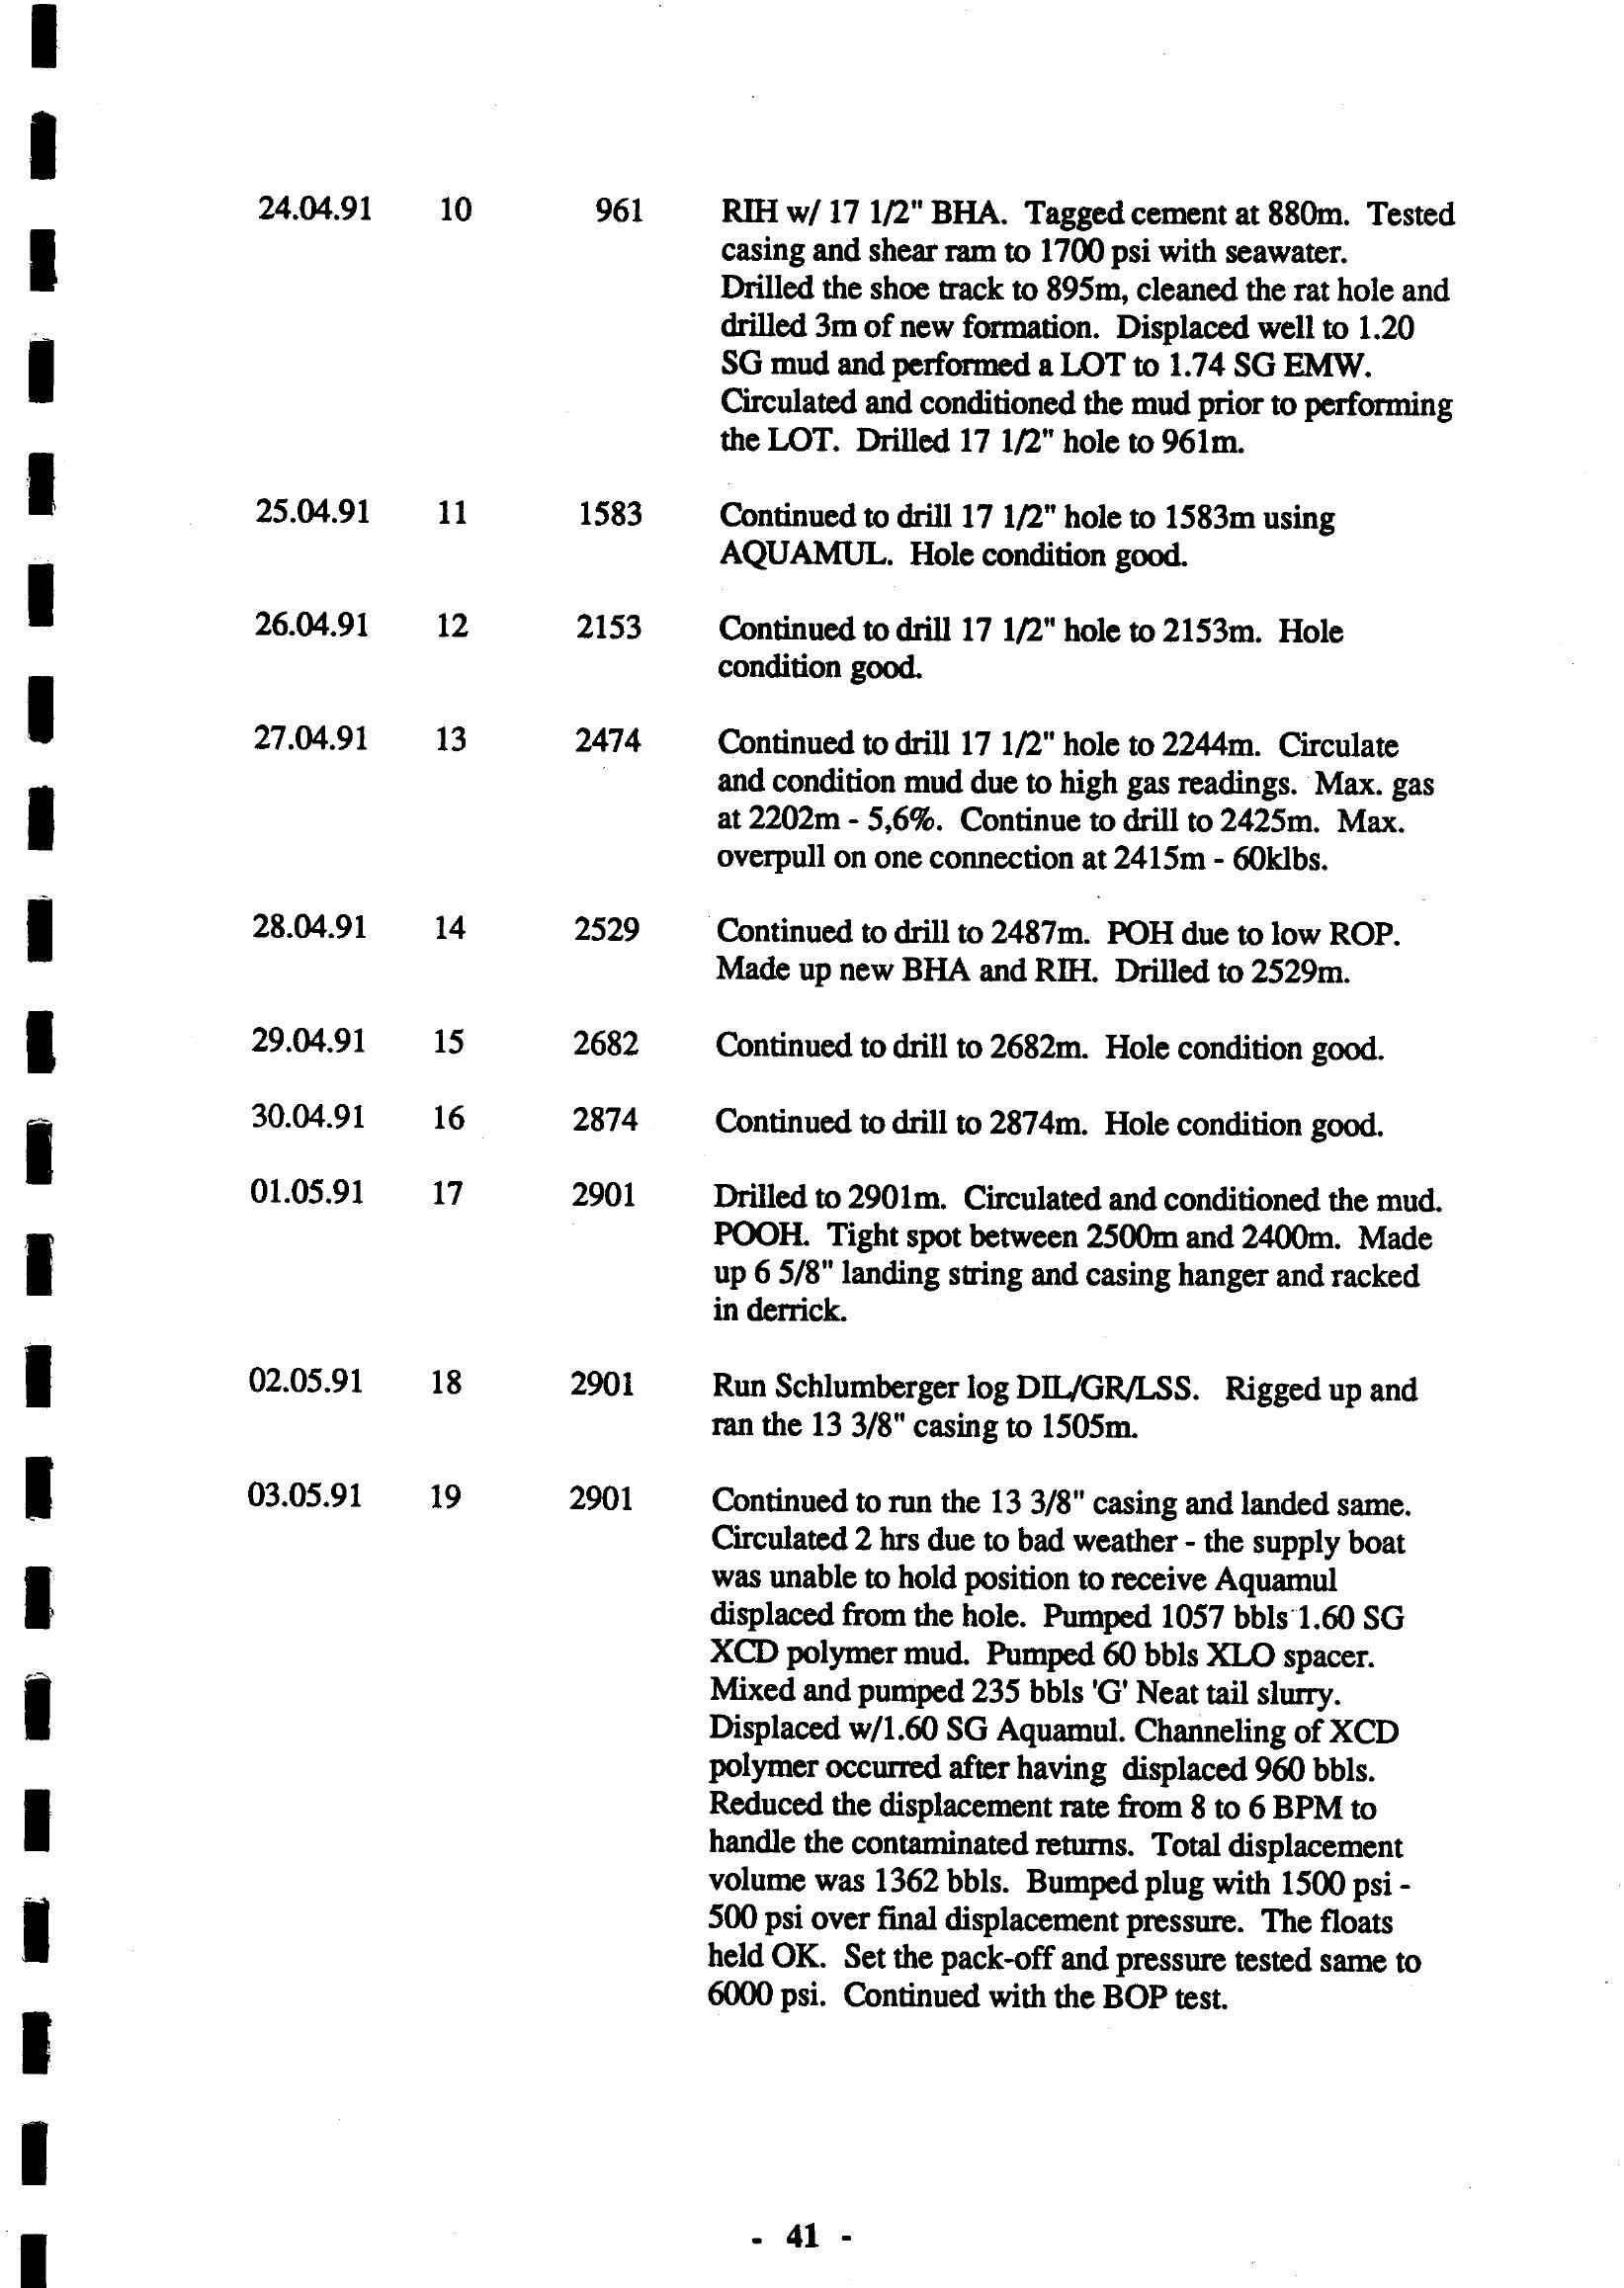text: (202, 163, 1541, 2111)
